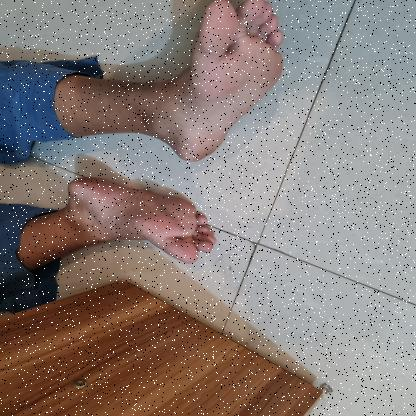leg: (50, 0, 296, 167), (22, 168, 223, 288)
